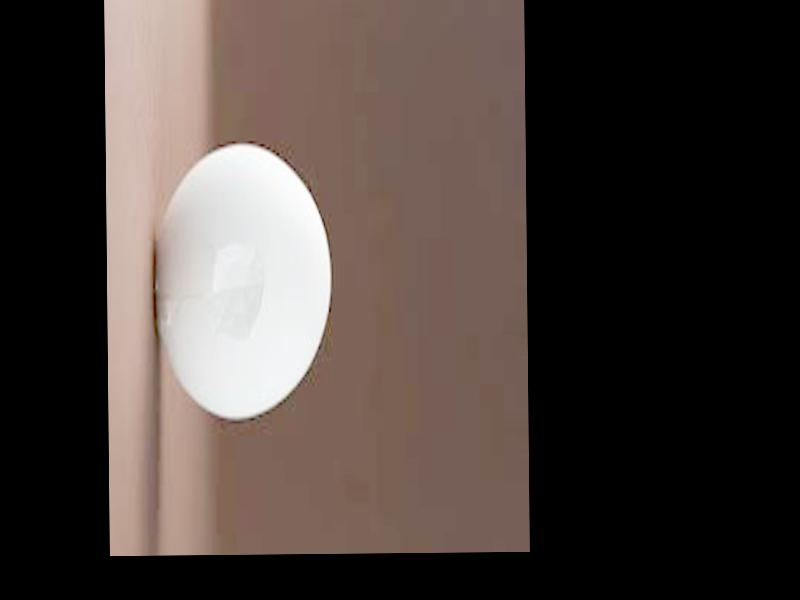Eggs: (152, 144, 332, 415)
